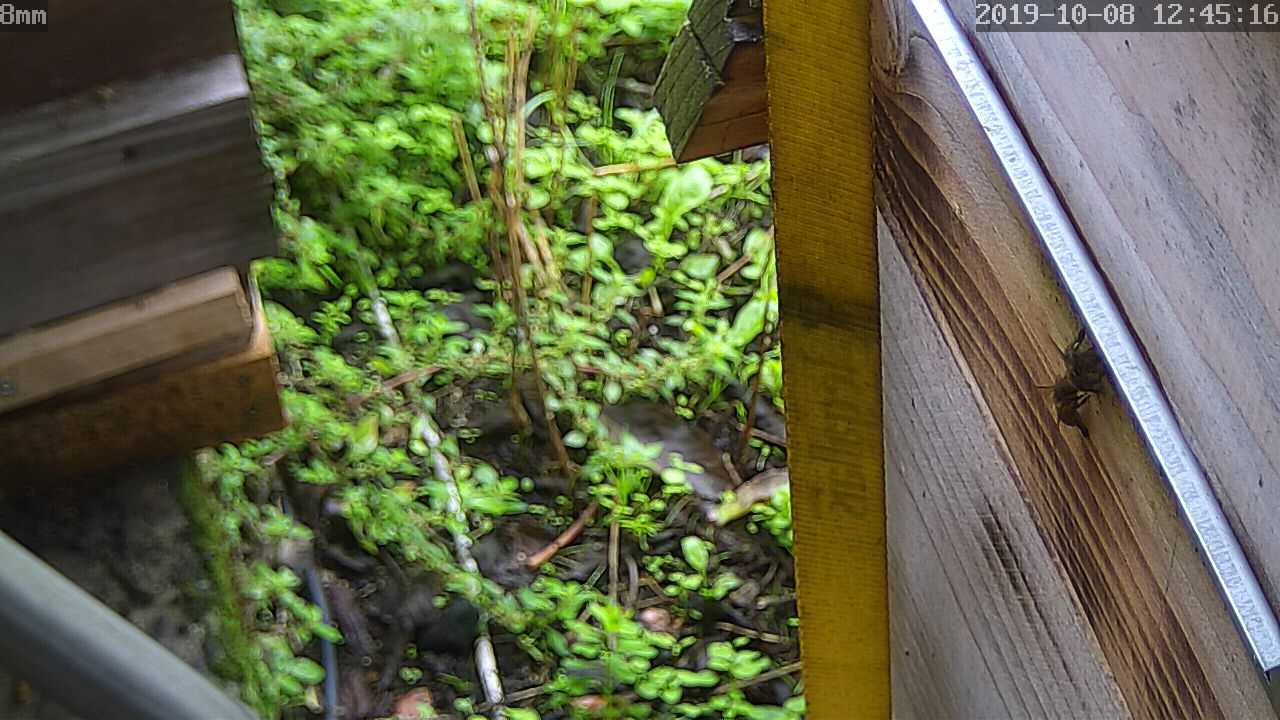bee: (1054, 326, 1104, 384), (1047, 387, 1095, 437)
